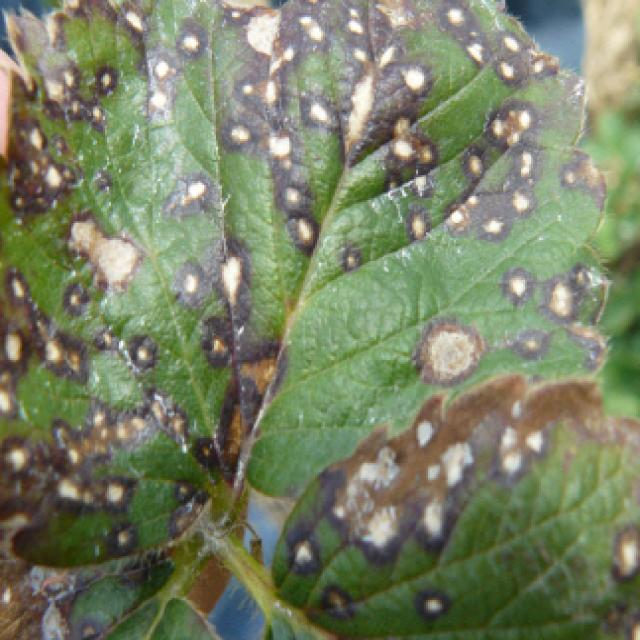Leaf Spot: (0, 0, 613, 569), (263, 376, 640, 640), (0, 502, 228, 640)
